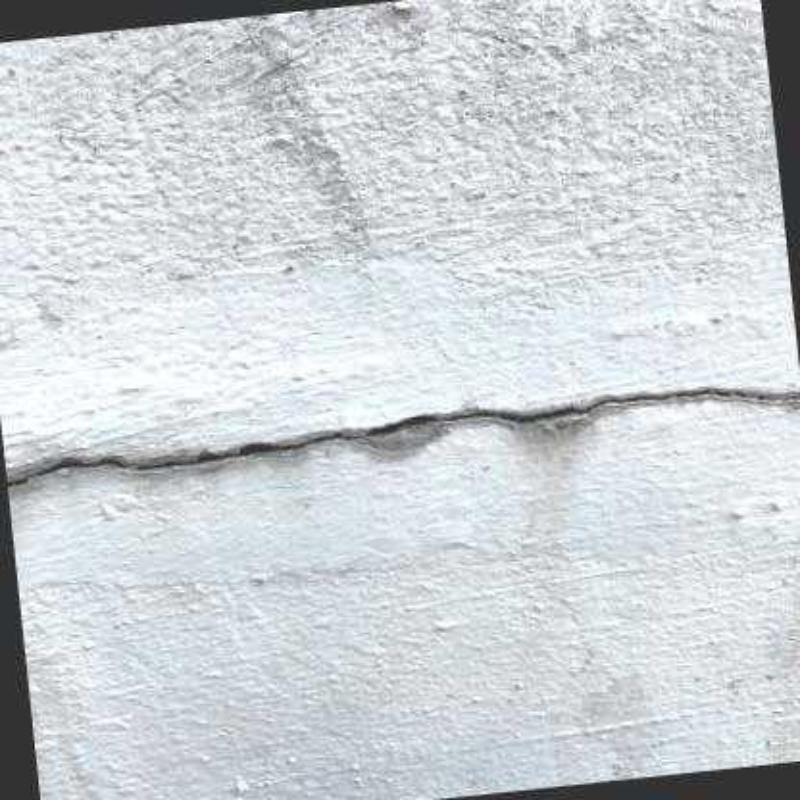crack: (6, 386, 800, 488)
